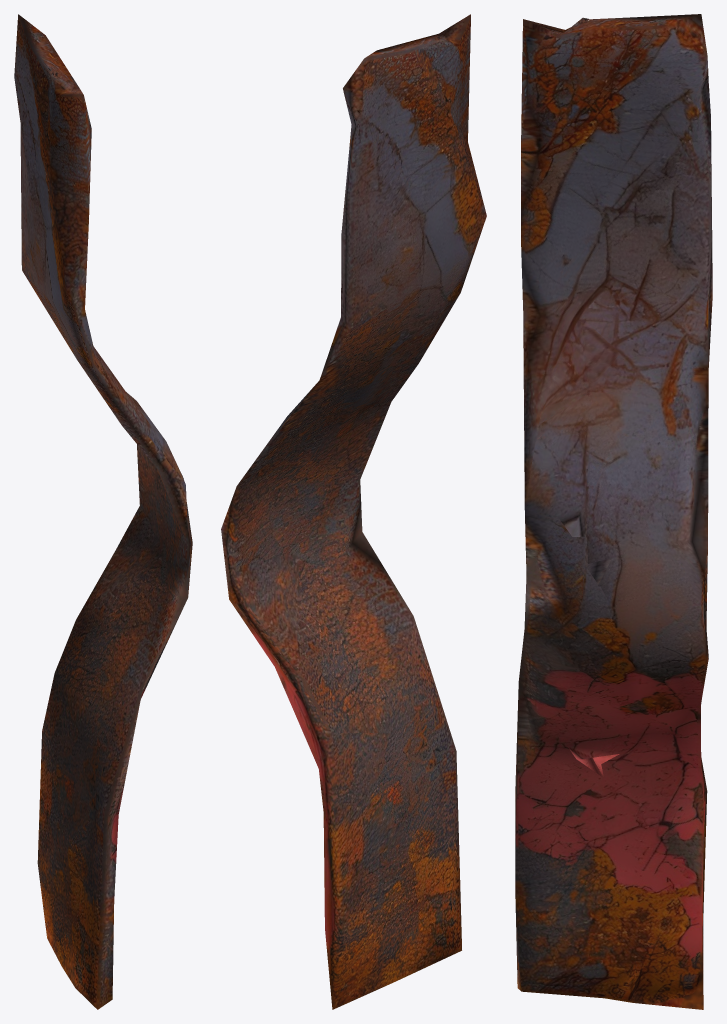
Rendered from tripo_convert_610cbddb-c7c0-477d-80c8-4ba8da0cc674.fbx.
3 views of the same model, side by side, from view 1: azimuth 30°, elevation 25°; view 2: azimuth 150°, elevation 25°; view 3: azimuth 270°, elevation 25° (orthographic). The views are drawn at different scales.
Parts seen in each view (by area): view 1: tripo_node_610cbddb; view 2: tripo_node_610cbddb; view 3: tripo_node_610cbddb.
Boxes of the visible parts, box(x1,y1,x2,y2) form: tripo_node_610cbddb: box(14, 14, 192, 1009); tripo_node_610cbddb: box(221, 14, 486, 1009); tripo_node_610cbddb: box(515, 14, 712, 1009).
Bounding box in the file's own units: 0.1915 × 0.9742 × 0.1779.
Materials: 1 (1 with a texture image).
